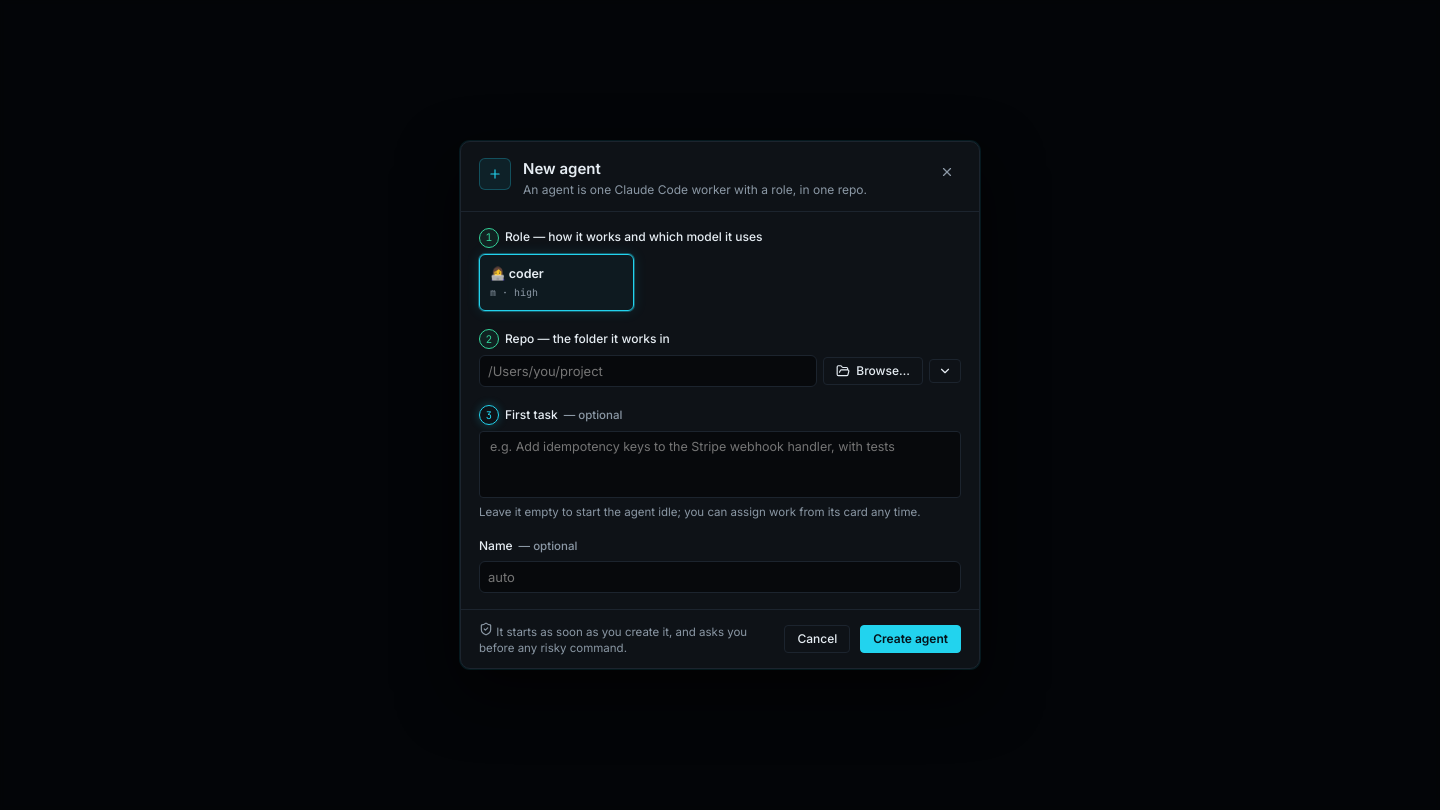
Scenario: SpawnDialog repo browser › 'Use this folder' selects the current directory
Click the button named "show folder list" at (945, 371), box left=929, top=359, right=961, bottom=383
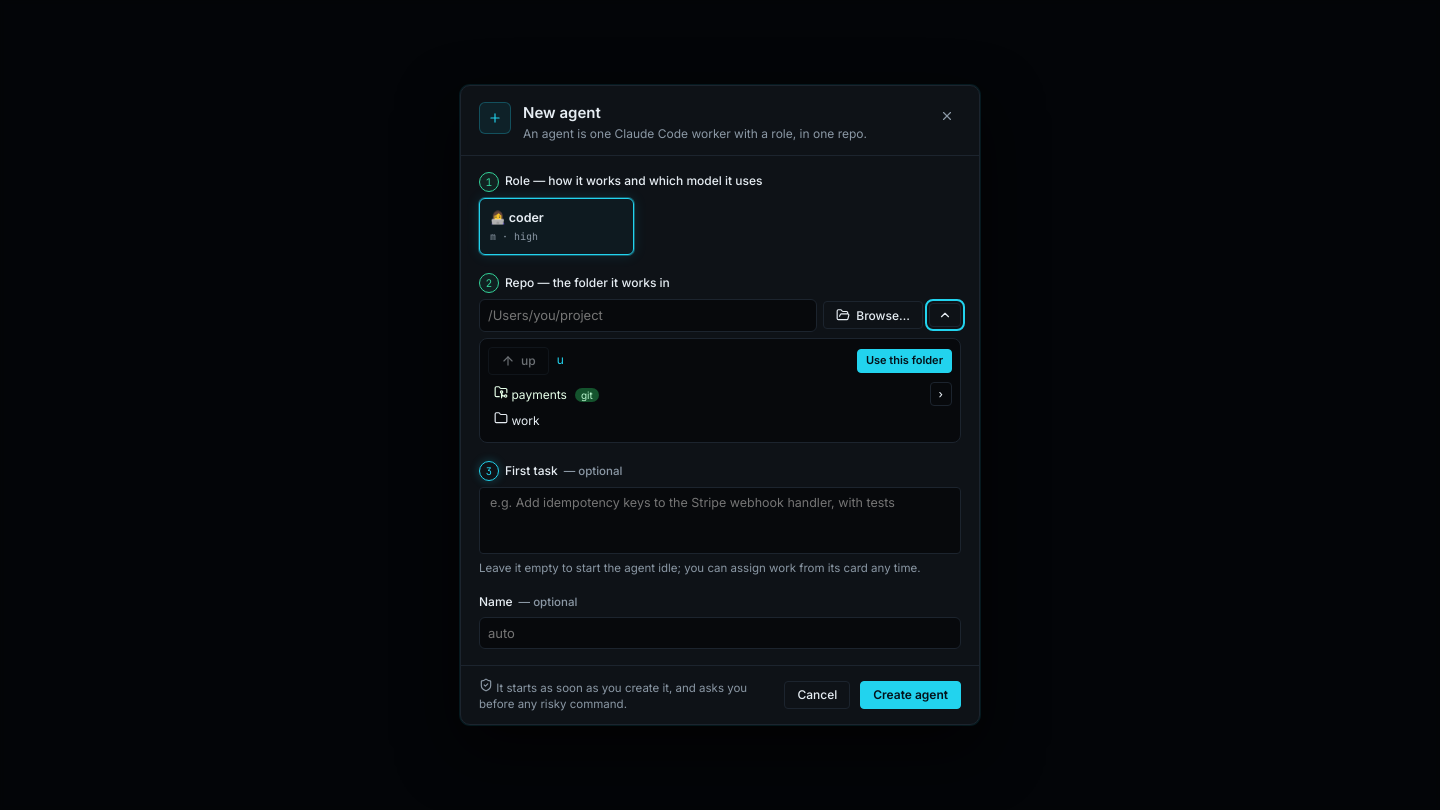
Click the button "work" at (501, 418), box left=488, top=407, right=952, bottom=434
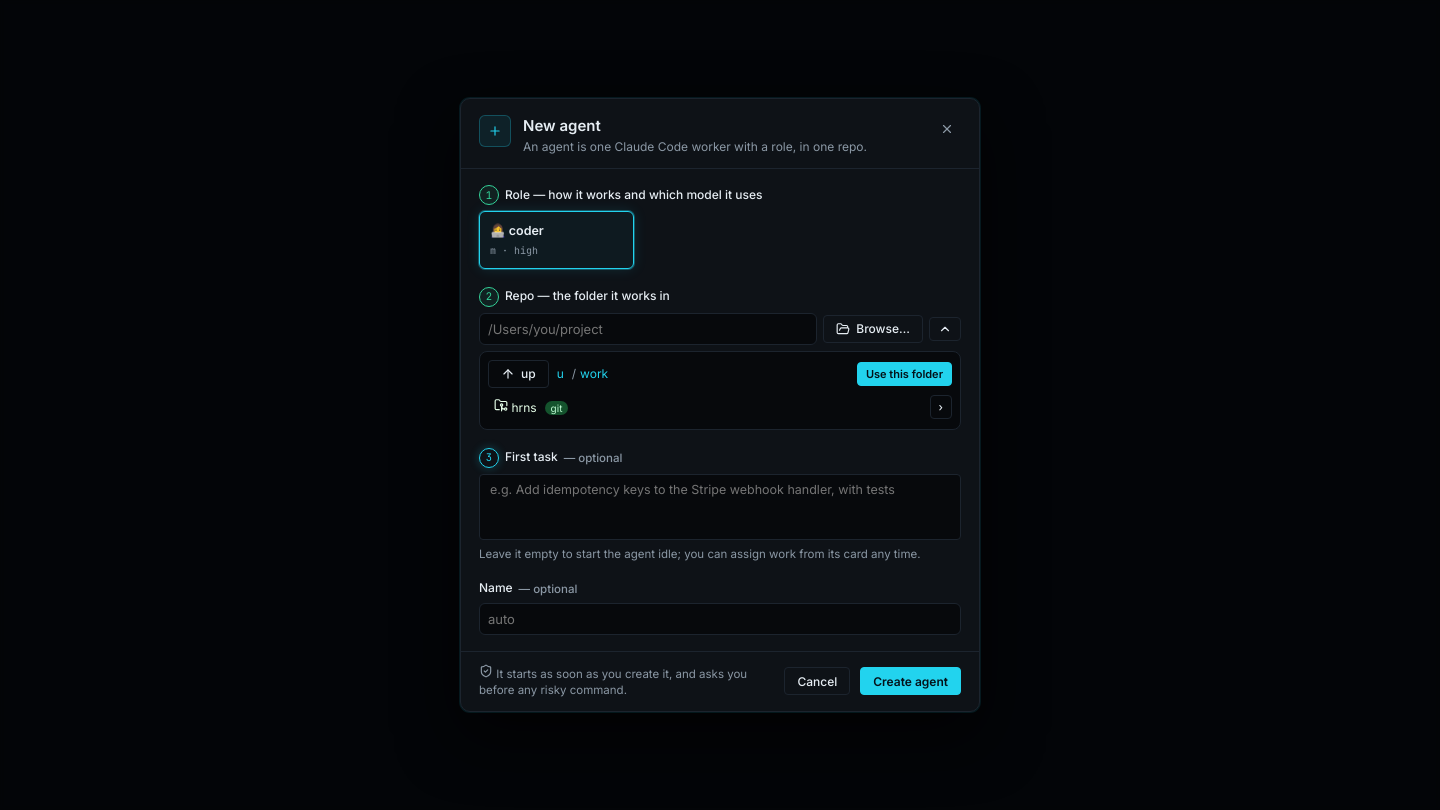
Result: the button "hrns" is shown at left=488, top=394, right=926, bottom=421
Click the button "Use this folder" at (904, 374), box left=857, top=362, right=952, bottom=386
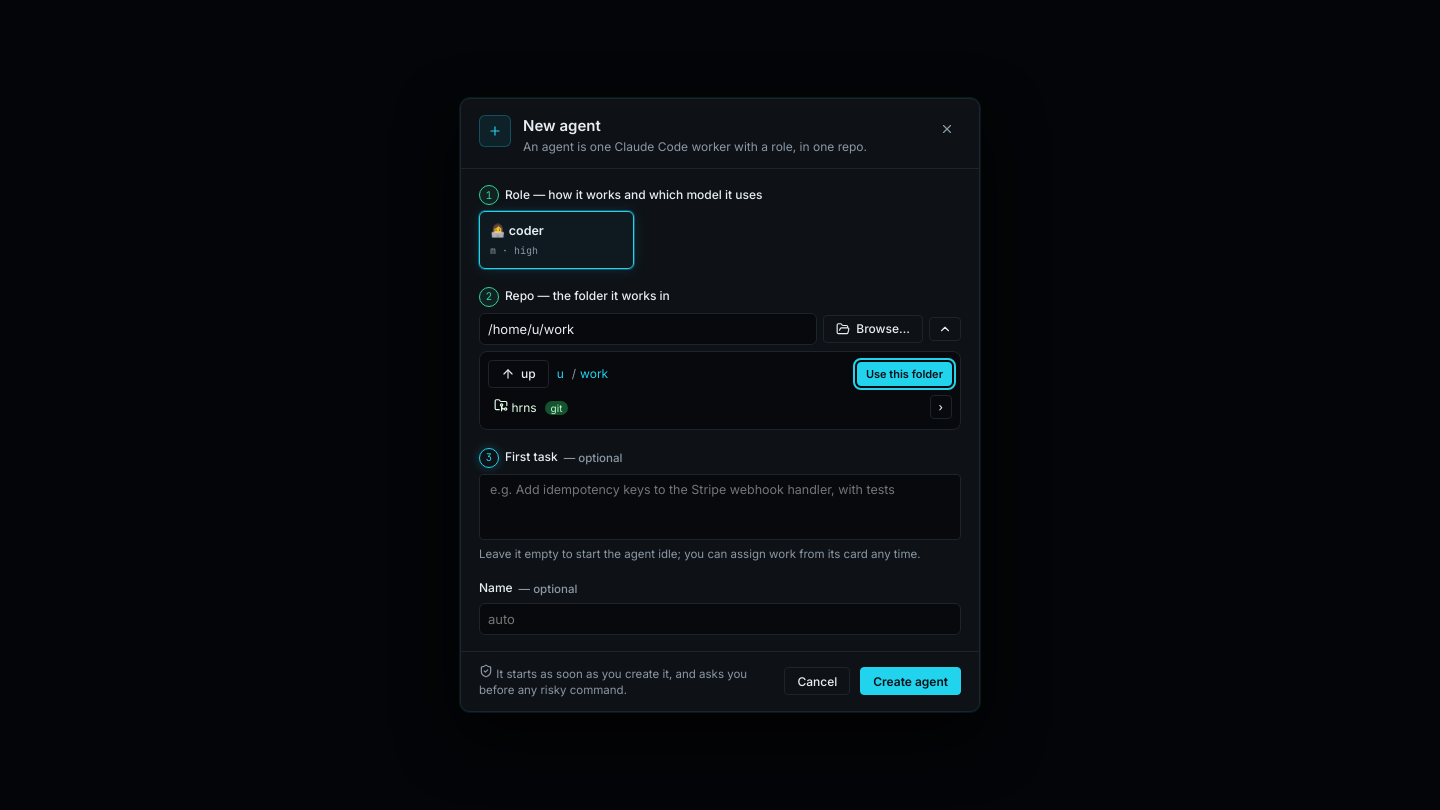
Result: the field with placeholder "/Users/you/project" holds "/home/u/work" at left=479, top=313, right=817, bottom=345
